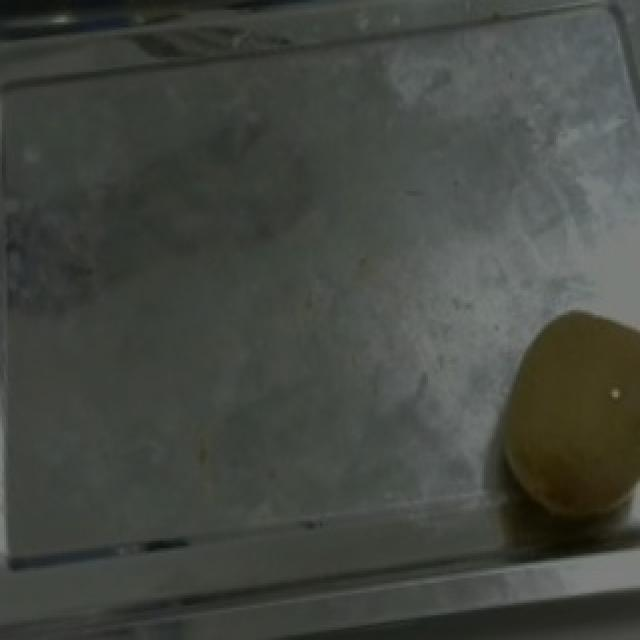Fruit: (476, 303, 640, 543)
